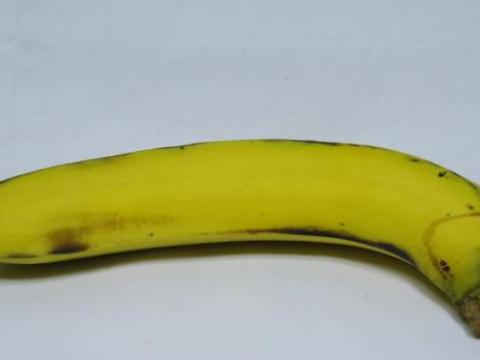freshripe: (0, 123, 479, 344)
